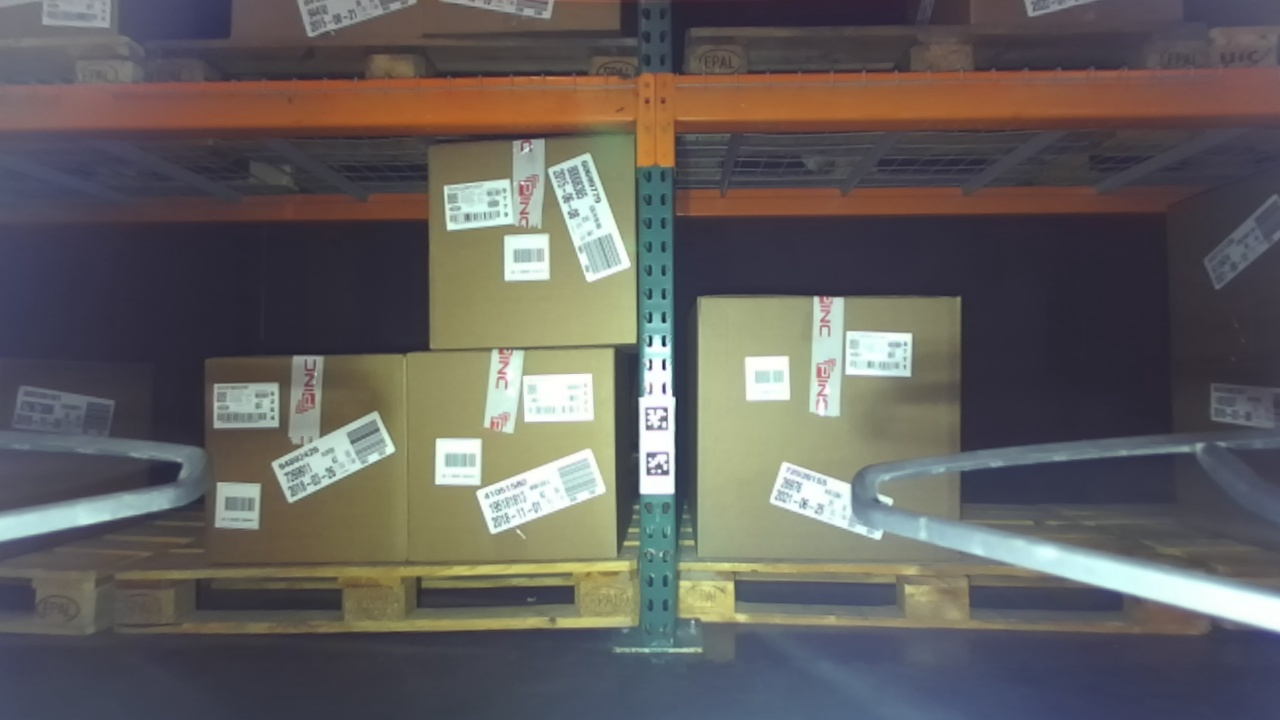box: (683, 278, 973, 576), (183, 337, 429, 585), (393, 340, 641, 582), (408, 127, 653, 366)
